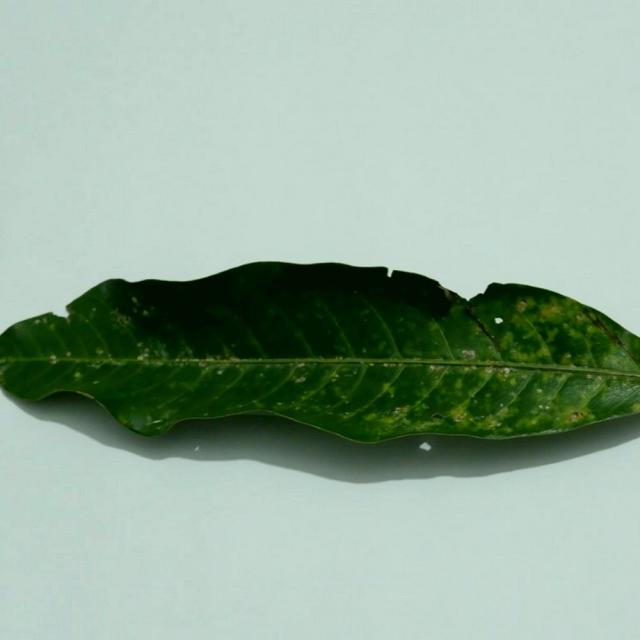Mango: (0, 262, 639, 442)
Powdery_Mildew: (587, 310, 638, 366), (323, 366, 366, 391), (109, 308, 144, 337), (404, 373, 437, 399), (531, 423, 575, 435), (437, 285, 458, 302), (151, 341, 171, 358), (584, 310, 602, 326), (543, 326, 559, 343), (460, 347, 477, 362), (75, 391, 97, 401), (450, 410, 467, 422), (453, 379, 464, 393), (484, 418, 499, 428), (393, 406, 409, 415), (515, 300, 527, 312), (572, 411, 587, 420), (419, 441, 431, 451), (139, 348, 150, 358), (431, 412, 444, 420), (0, 363, 10, 373), (65, 302, 74, 313), (430, 365, 444, 372), (472, 325, 482, 334), (145, 415, 153, 425), (493, 317, 504, 324), (401, 417, 412, 424), (45, 318, 54, 326), (258, 373, 267, 381), (49, 355, 57, 363), (508, 378, 516, 386), (576, 314, 585, 321), (518, 373, 527, 380), (503, 425, 512, 432), (296, 376, 306, 382), (382, 362, 394, 367), (563, 353, 571, 360), (74, 371, 81, 379), (96, 348, 104, 355), (198, 361, 207, 367), (475, 414, 484, 420), (386, 269, 392, 278), (296, 363, 306, 368), (132, 297, 139, 304), (34, 318, 41, 325), (193, 445, 200, 452), (163, 413, 170, 420), (390, 392, 396, 400), (369, 361, 378, 366), (635, 403, 640, 412), (504, 368, 511, 374), (142, 310, 149, 316), (596, 375, 603, 381), (332, 375, 338, 382), (586, 374, 594, 379), (65, 351, 71, 357), (230, 343, 236, 349), (352, 290, 358, 296), (536, 388, 543, 393), (216, 369, 223, 374), (342, 411, 349, 416), (362, 347, 367, 353), (363, 318, 369, 323), (337, 355, 344, 359), (92, 380, 99, 384), (92, 307, 97, 312), (203, 412, 209, 416), (545, 405, 550, 409), (538, 404, 543, 408), (499, 403, 504, 407), (277, 402, 282, 405)
